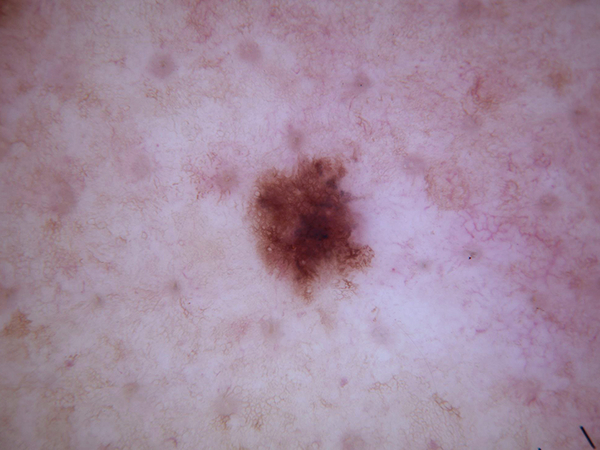Detected Lesion: (243, 151, 385, 312)
